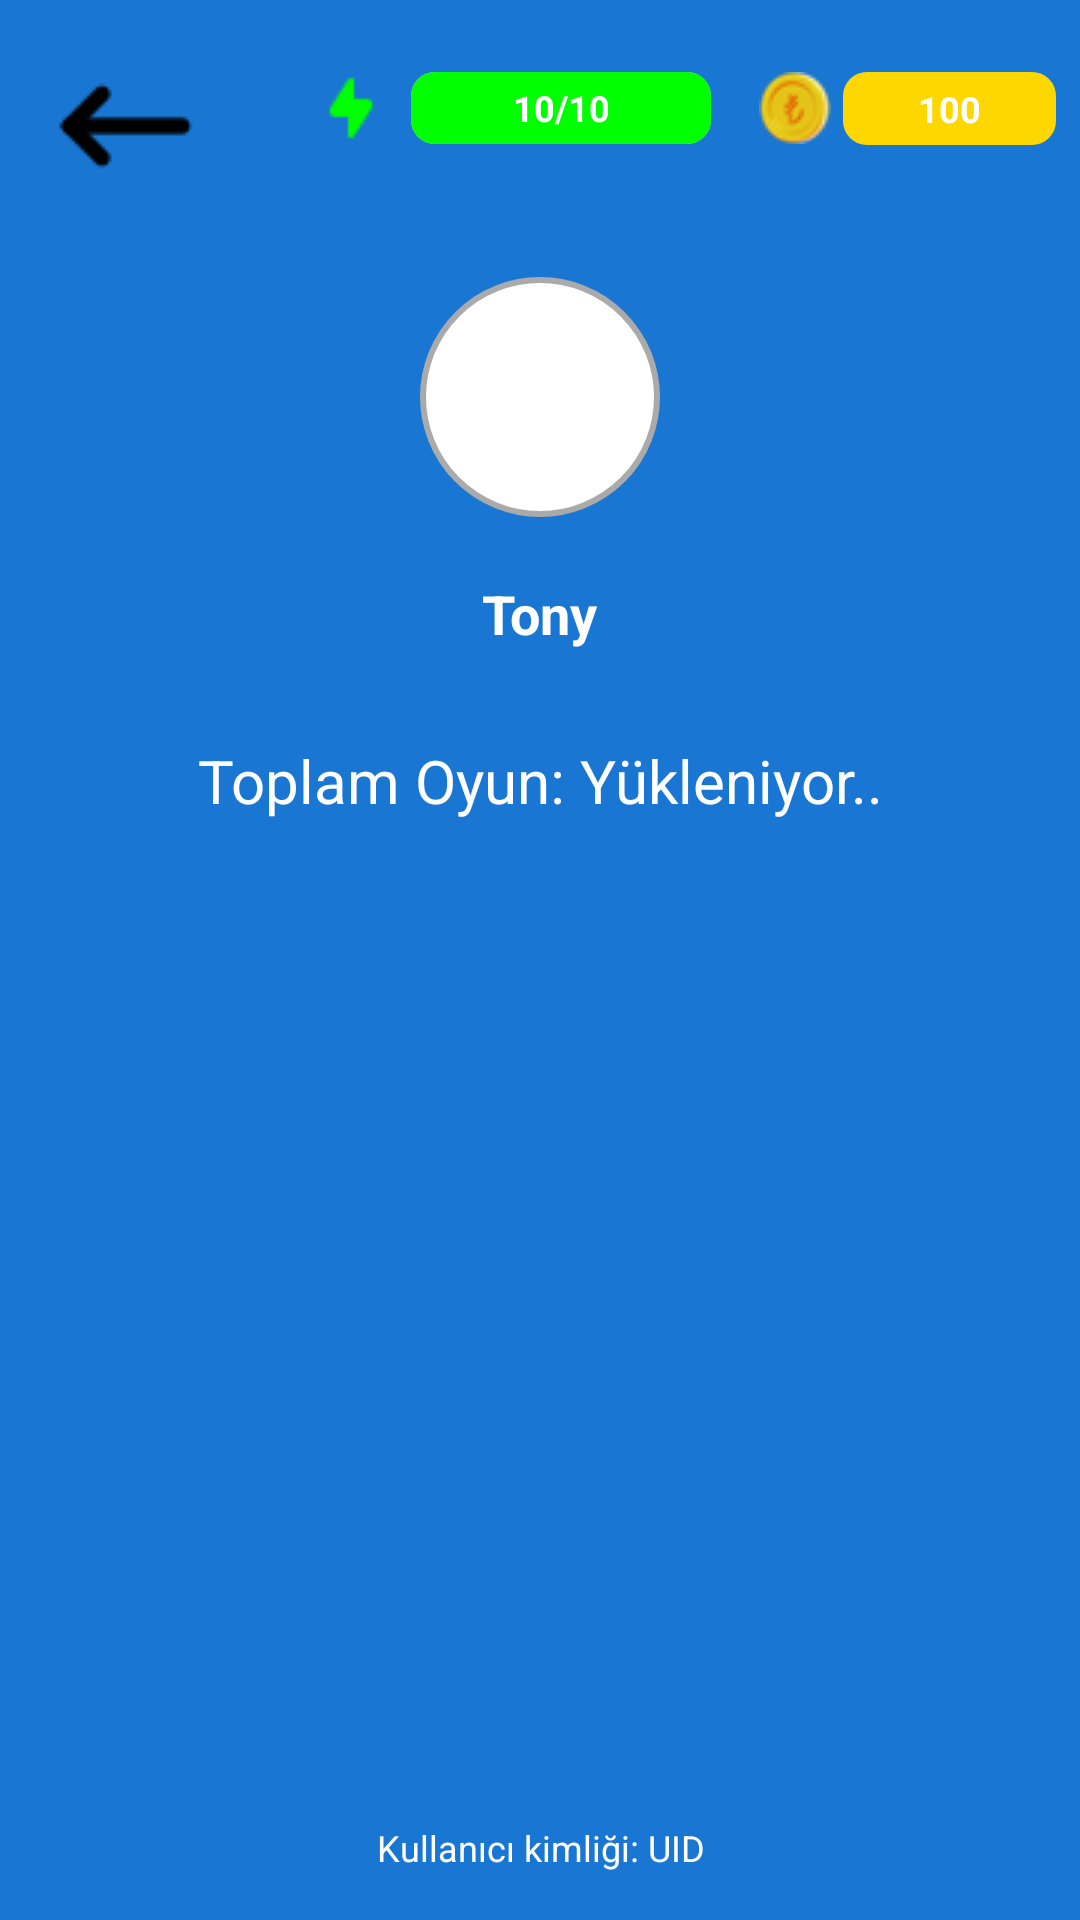

Point at icon controls on the screen. Image size 1080x1920, points as (x=x, y=y).
energyicongreen: (x=351, y=108)
Geri: (x=125, y=126)
tlicon: (x=795, y=108)
